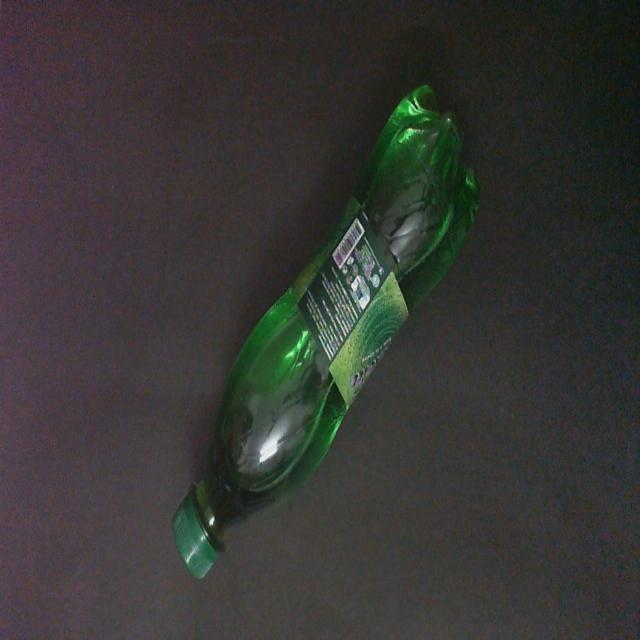non-defect: (170, 80, 483, 584)
